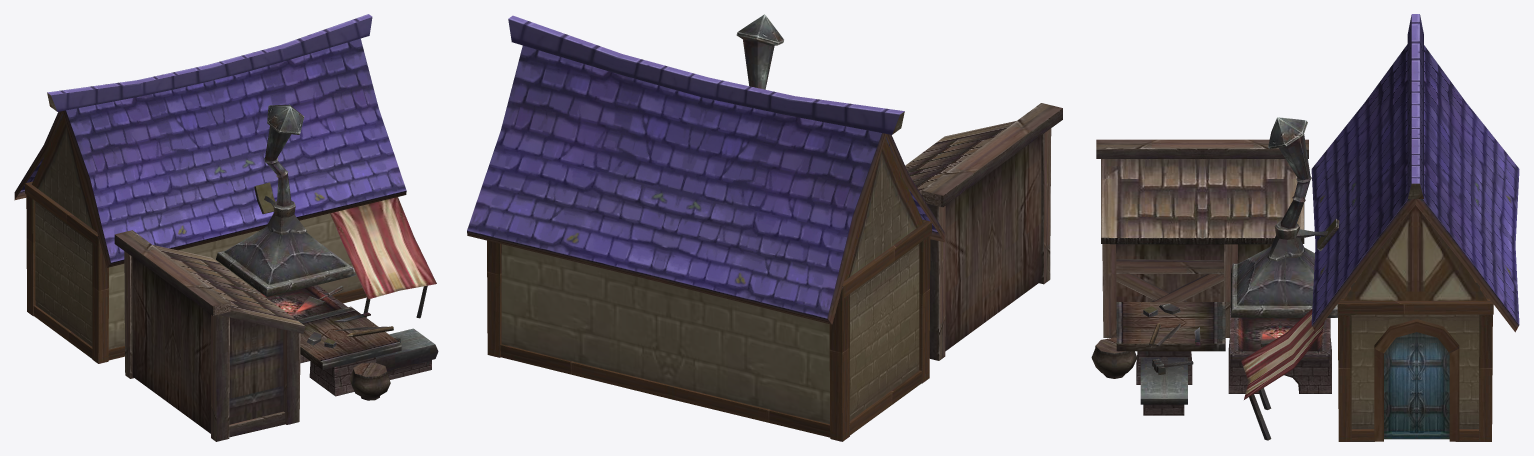
The model's file is zhucheng_wuzi04.FBX.
The picture shows the model from 3 angles, left to right: view 1: azimuth 30°, elevation 25°; view 2: azimuth 150°, elevation 25°; view 3: azimuth 270°, elevation 25°; orthographic projection. The views are drawn at different scales.
Parts seen in each view (by area): view 1: zhucheng_wuzi04; view 2: zhucheng_wuzi04; view 3: zhucheng_wuzi04.
Boxes of the visible parts, x1,y1,x2,y2 form: zhucheng_wuzi04: (14, 14, 438, 441); zhucheng_wuzi04: (467, 14, 1062, 441); zhucheng_wuzi04: (1091, 14, 1519, 441).
Bounding box in the file's own units: 244 × 260 × 180.
